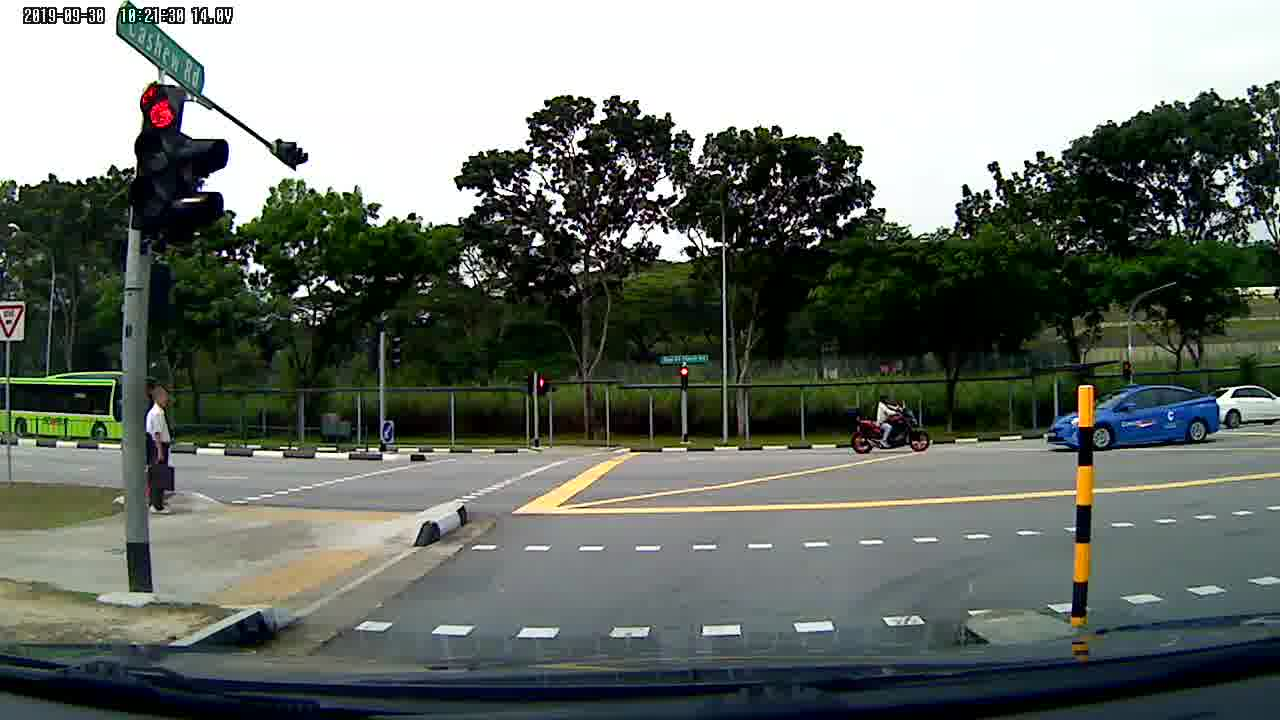bus: (1, 366, 122, 449)
car: (1047, 382, 1222, 460), (1214, 381, 1280, 426)
